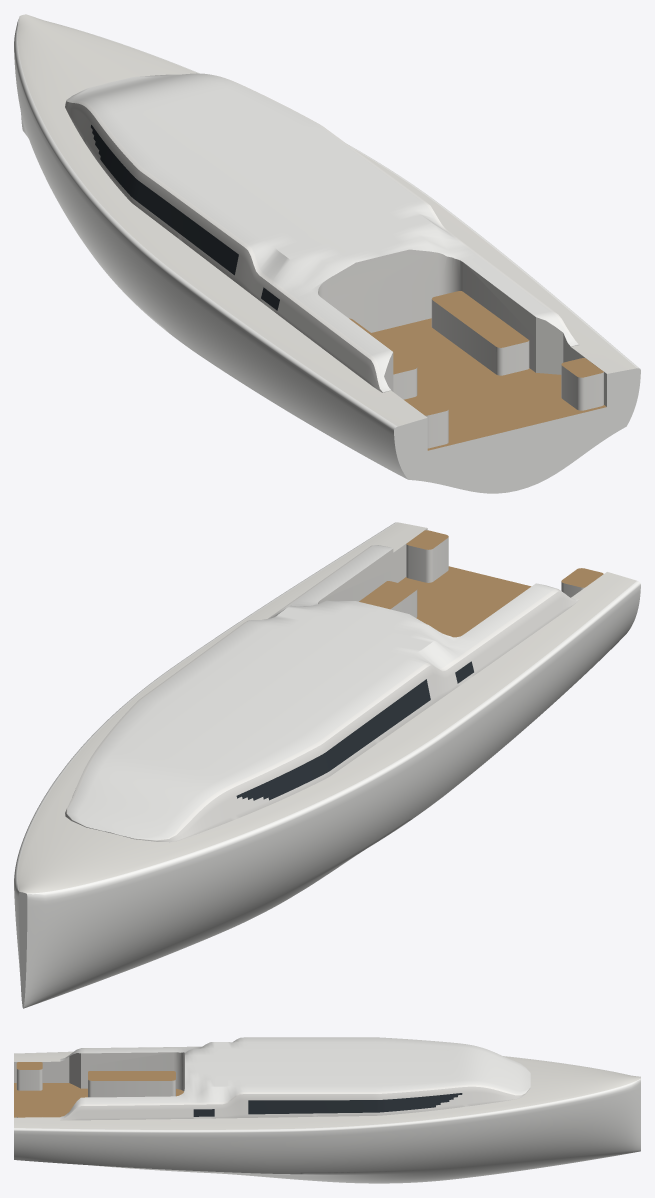
Rendered from bavaria46.glb.
3 views of the same model, one above another, from view 1: azimuth 30°, elevation 25°; view 2: azimuth 150°, elevation 25°; view 3: azimuth 270°, elevation 25° (orthographic). The views are drawn at different scales.
Parts seen in each view (by area): view 1: bavaria46; view 2: bavaria46; view 3: bavaria46.
Boxes of the visible parts, left/top/right/bottom form: bavaria46: left=14, top=14, right=640, bottom=493; bavaria46: left=14, top=522, right=640, bottom=1008; bavaria46: left=14, top=1037, right=640, bottom=1183.
Size of the model in its own units: 4.35 by 2.61 by 13.56.
